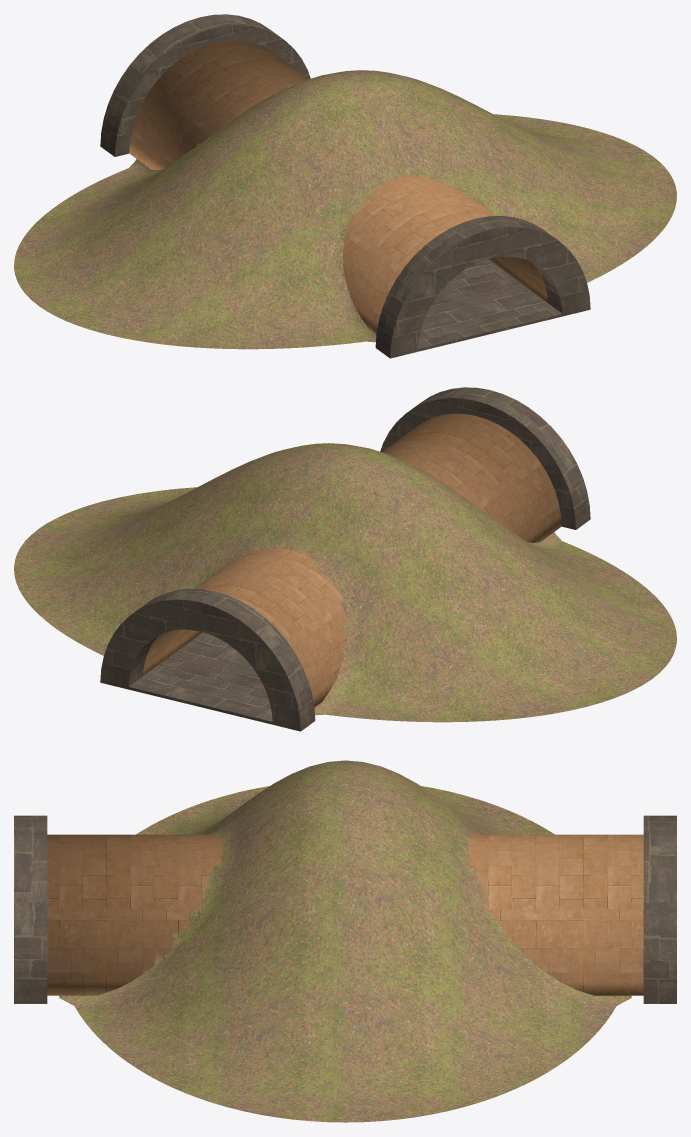
File: 01 Vault Mount.fbx
3 views of the same model, one above another, from view 1: azimuth 30°, elevation 25°; view 2: azimuth 150°, elevation 25°; view 3: azimuth 270°, elevation 25° (orthographic). The views are drawn at different scales.
Parts seen in each view (by area): view 1: SiteA_VaultMound_turf_mound, SiteA_VaultMound_vault_tunnel, SiteA_VaultMound_portal_arch_south, SiteA_VaultMound_portal_arch_north, SiteA_VaultMound_tunnel_floor; view 2: SiteA_VaultMound_turf_mound, SiteA_VaultMound_vault_tunnel, SiteA_VaultMound_portal_arch_north, SiteA_VaultMound_portal_arch_south, SiteA_VaultMound_tunnel_floor; view 3: SiteA_VaultMound_turf_mound, SiteA_VaultMound_vault_tunnel, SiteA_VaultMound_portal_arch_north, SiteA_VaultMound_portal_arch_south.
Part boxes in pixels (left/top/right/bottom): SiteA_VaultMound_turf_mound: left=14, top=70, right=676, bottom=349; SiteA_VaultMound_vault_tunnel: left=129, top=40, right=547, bottom=333; SiteA_VaultMound_portal_arch_south: left=375, top=216, right=590, bottom=358; SiteA_VaultMound_portal_arch_north: left=100, top=14, right=310, bottom=156; SiteA_VaultMound_tunnel_floor: left=418, top=259, right=562, bottom=351; SiteA_VaultMound_turf_mound: left=14, top=443, right=676, bottom=722; SiteA_VaultMound_vault_tunnel: left=143, top=413, right=561, bottom=706; SiteA_VaultMound_portal_arch_north: left=100, top=589, right=315, bottom=731; SiteA_VaultMound_portal_arch_south: left=380, top=387, right=590, bottom=529; SiteA_VaultMound_tunnel_floor: left=128, top=632, right=272, bottom=724; SiteA_VaultMound_turf_mound: left=59, top=760, right=631, bottom=1122; SiteA_VaultMound_vault_tunnel: left=47, top=834, right=643, bottom=995; SiteA_VaultMound_portal_arch_north: left=643, top=815, right=676, bottom=1003; SiteA_VaultMound_portal_arch_south: left=14, top=815, right=47, bottom=1003.
Size of the model in its own units: 6.8 by 1.6 by 5.56.
3 materials, 3 textured.
